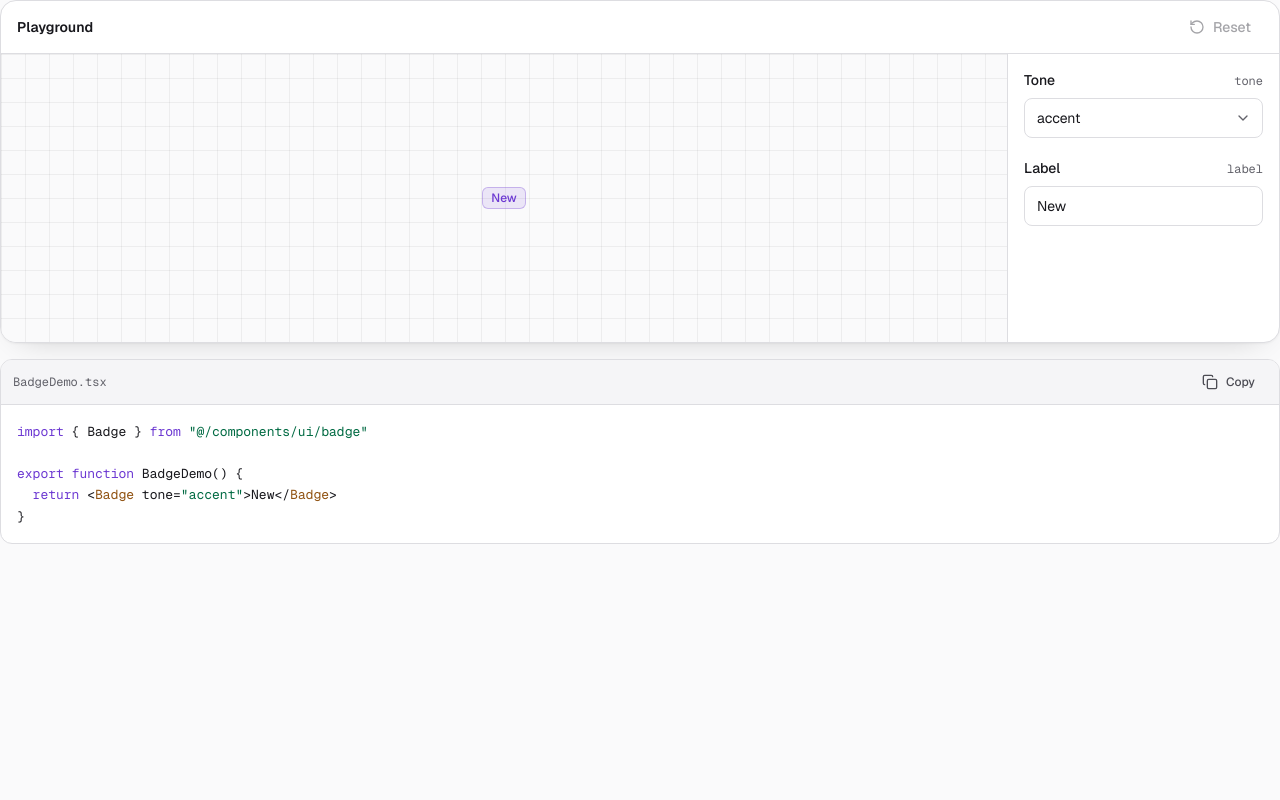
it: ComponentPlayground › renders user text as text, never as markup
This screenshot has width=1280, height=800.
Replace the text in the field labelled "Label" with "<b>x</b>". click: coordinates (1144, 206)
box: 1024,186 -> 1263,226
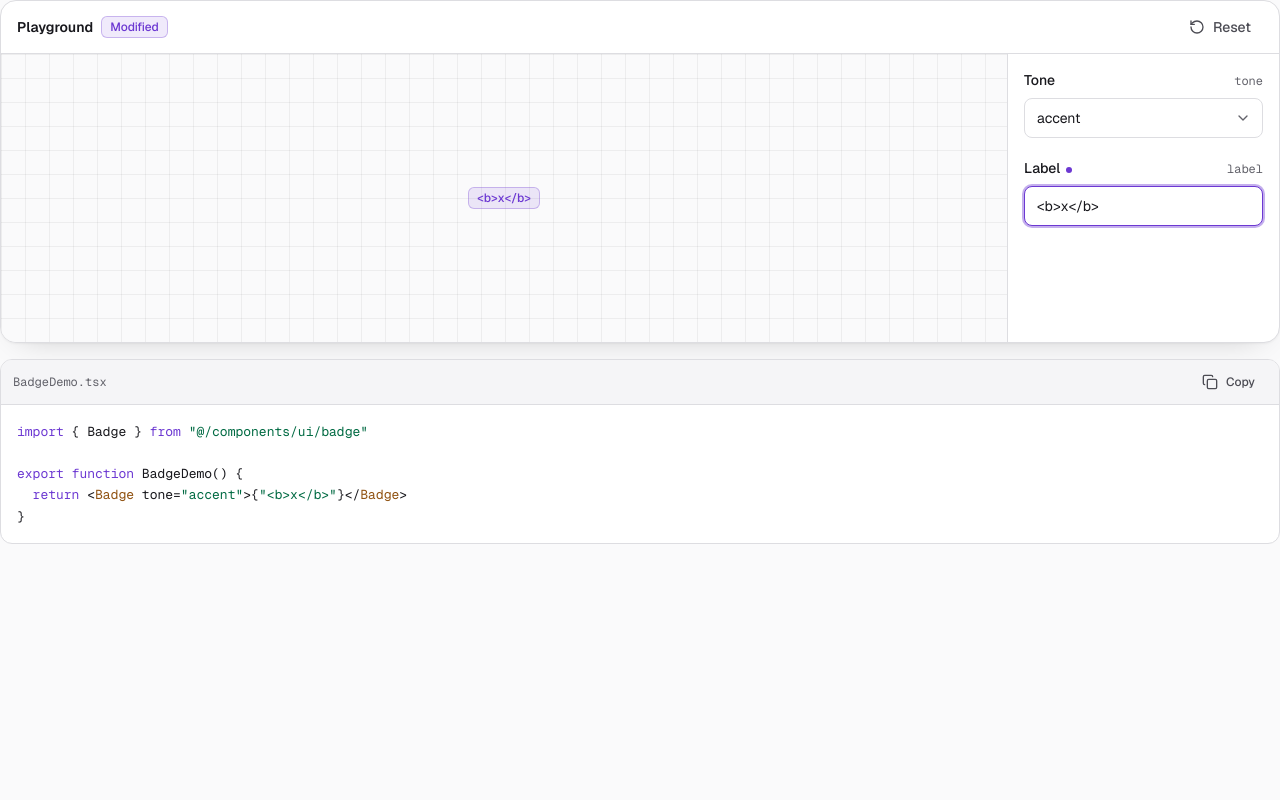
Expected: the text "<b>x</b>" is shown, 468,187 -> 540,209
